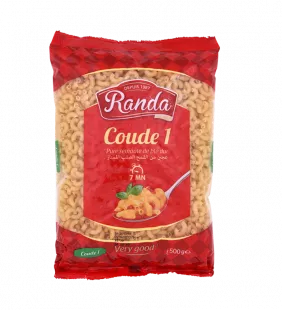RANDA: (44, 21, 228, 291)
